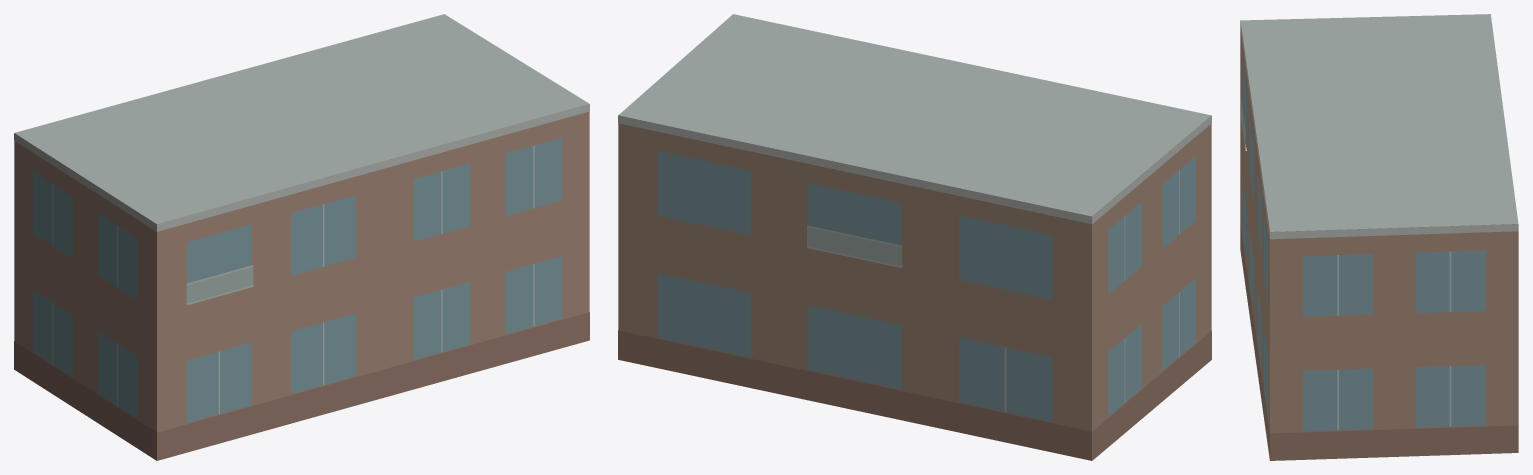
Rendered from survey-upis-32748776.glb.
3 renders of one model, left to right at view 1: azimuth 30°, elevation 25°; view 2: azimuth 150°, elevation 25°; view 3: azimuth 270°, elevation 25°, orthographic. The views are drawn at different scales.
Parts seen in each view (by area): view 1: survey-upis-32748776.tmp; view 2: survey-upis-32748776.tmp; view 3: survey-upis-32748776.tmp.
Boxes of the visible parts, x1=… form: survey-upis-32748776.tmp: x1=14, y1=14, x2=589, y2=460; survey-upis-32748776.tmp: x1=618, y1=14, x2=1211, y2=460; survey-upis-32748776.tmp: x1=1240, y1=14, x2=1518, y2=460.
Size of the model in its own units: 15.53 by 7.6 by 8.38.
